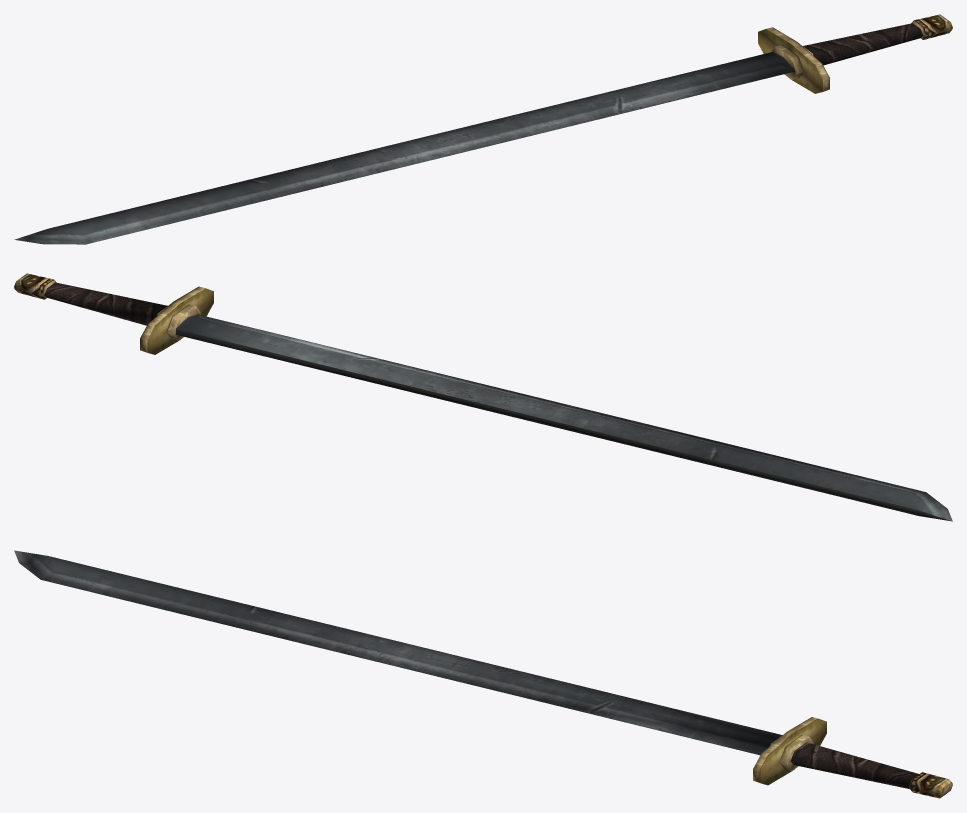
The model's file is KM_RYCHU_SWORD_01.glb.
The picture shows the model from 3 angles, top to bottom: view 1: azimuth 30°, elevation 25°; view 2: azimuth 150°, elevation 25°; view 3: azimuth 330°, elevation 25°; orthographic projection. The views are drawn at different scales.
Visible parts, largest first — view 1: Mesh; view 2: Mesh; view 3: Mesh.
Part boxes in pixels (left/top/right/bottom): Mesh: left=14, top=14, right=952, bottom=244; Mesh: left=14, top=273, right=952, bottom=521; Mesh: left=14, top=550, right=952, bottom=798.
Bounding box in the file's own units: 0.9671 × 0.0359 × 0.1183.
Materials: 2 (2 with a texture image).
